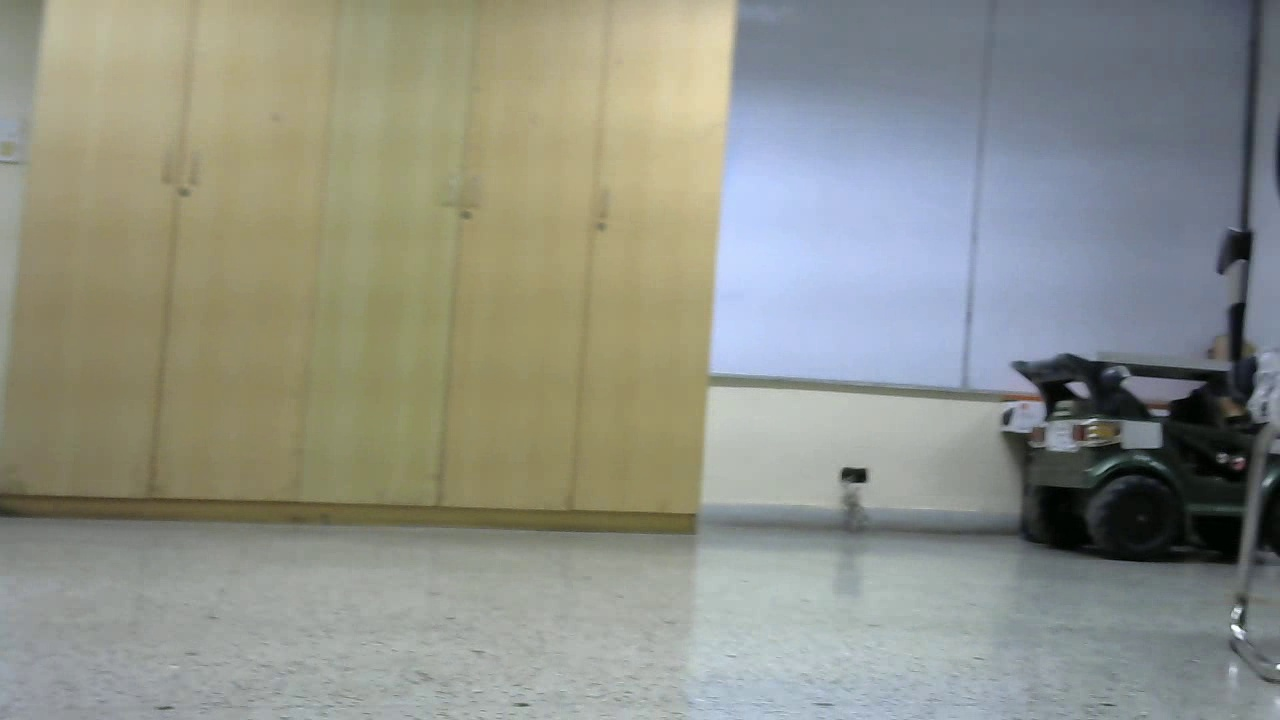chair: (716, 141, 1089, 641), (232, 119, 474, 555)
